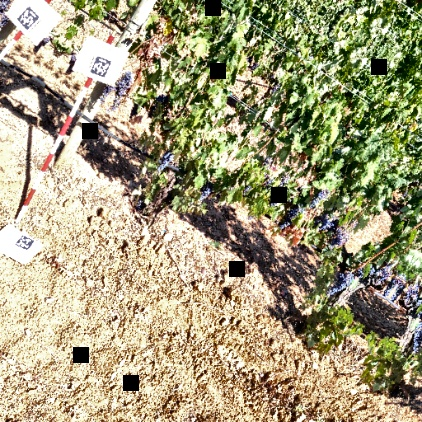QR: (89, 54, 114, 80), (15, 231, 36, 253)
